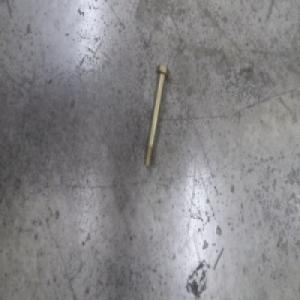Bolt: (143, 62, 170, 169)
